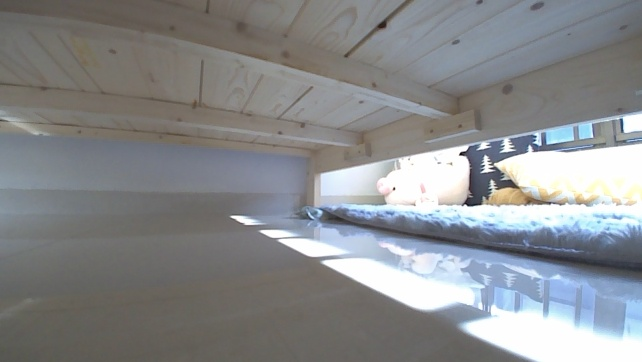blanket: (297, 200, 641, 272)
